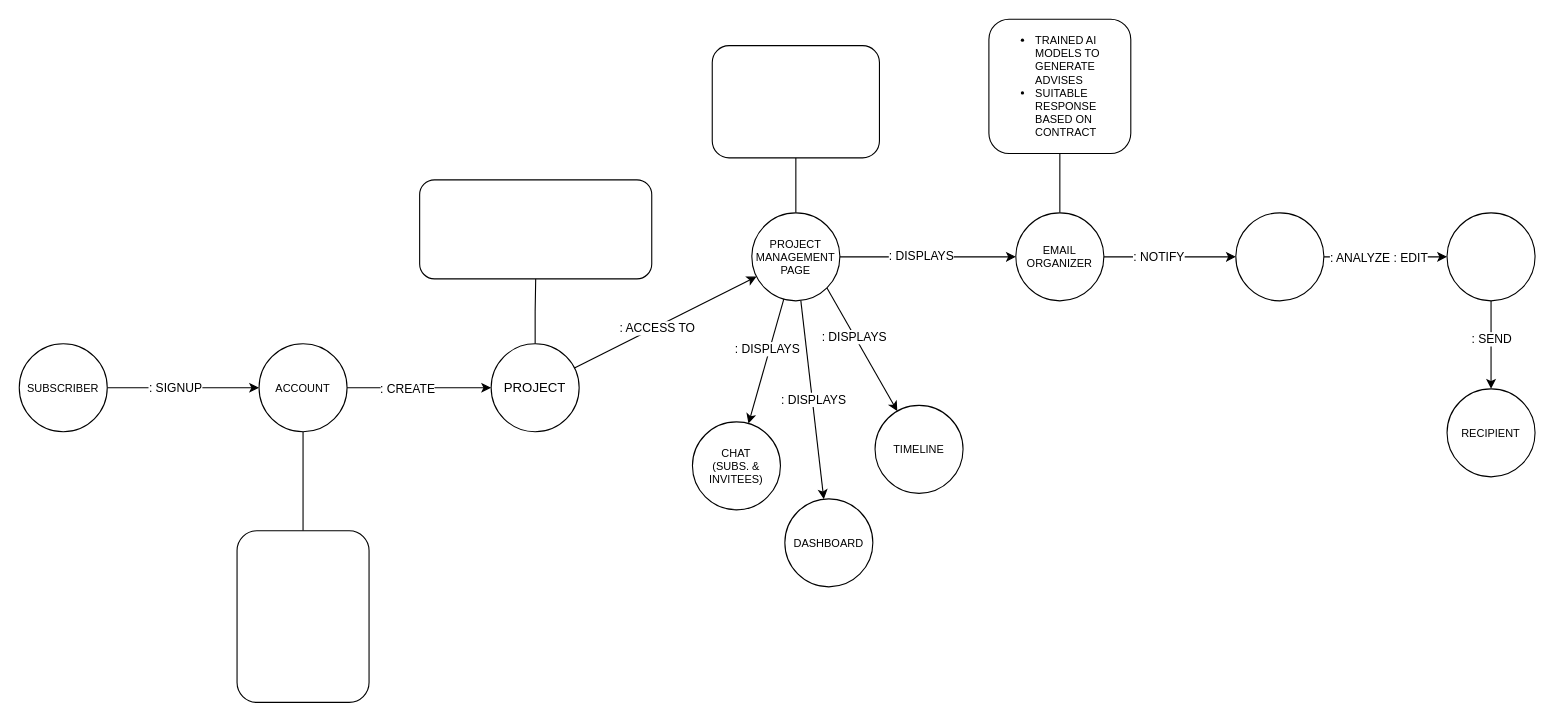
This 1554x722 diagram has some shape labels left out. Here are the shapes that lost their labels. From the top down, the centre of each, then its label:
(x=795, y=101): DASHBOARD CHAT EMAIL ORGANIZER (GANTT CHART) TIMELINE
(x=535, y=229): NAME REFERENCE CONTRACT GENERIC EMAIL INVITED MEMBERS (EMAIL)
(x=1279, y=256): INVITED ACCOUNT
(x=1490, y=256): FINAL RESPONSE
(x=302, y=616): NAME EMAIL PHONE NUMBER DOB PROFILE PICTURE PASSWORD ROLE
